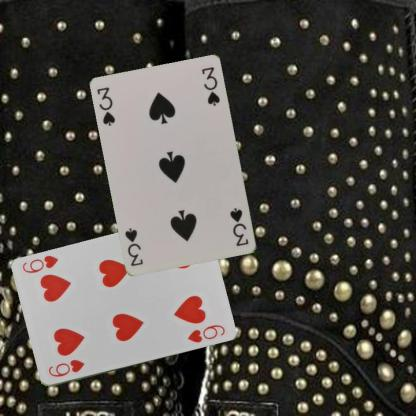3s: (227, 205, 250, 248), (94, 85, 117, 128)
6h: (46, 357, 86, 379)
